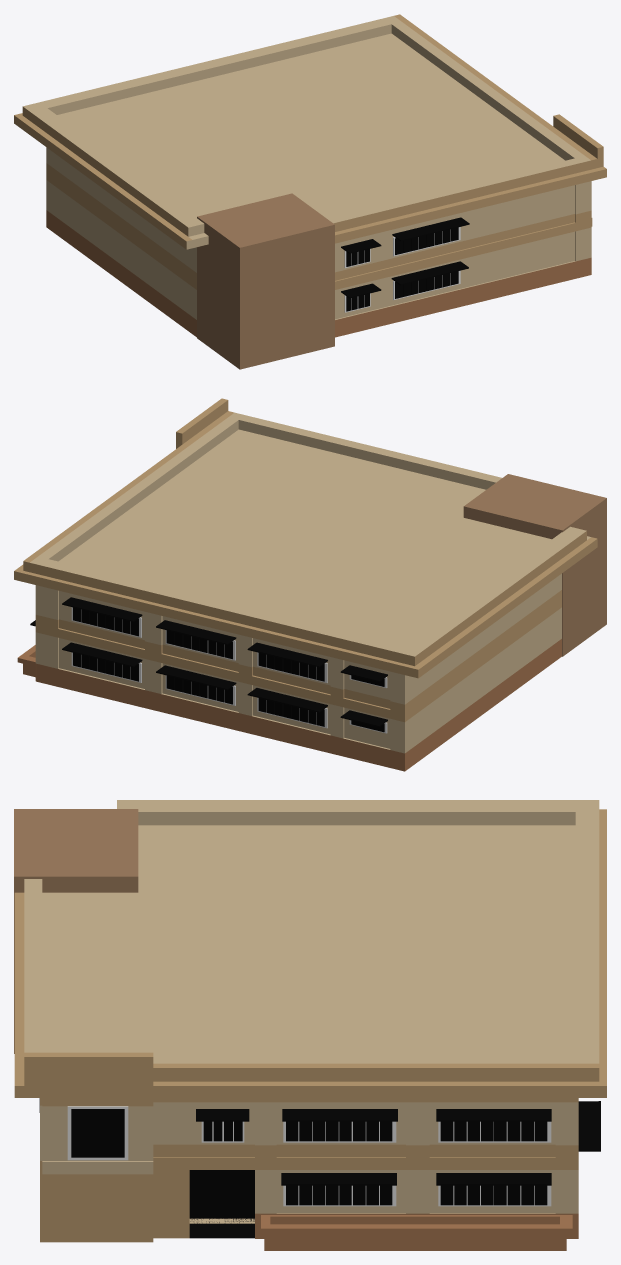
File: og_metalcasting.glb
3 views of the same model, one above another, from view 1: azimuth 30°, elevation 25°; view 2: azimuth 150°, elevation 25°; view 3: azimuth 270°, elevation 25° (orthographic). The views are drawn at different scales.
Visible parts, largest first — view 1: Cube.159; view 2: Cube.159; view 3: Cube.159.
Boxes of the visible parts, x1=… form: Cube.159: x1=14, y1=14, x2=606, y2=369; Cube.159: x1=14, y1=398, x2=606, y2=771; Cube.159: x1=14, y1=800, x2=606, y2=1250.
Bounding box in the file's own units: 3.76 × 1.19 × 3.34.
